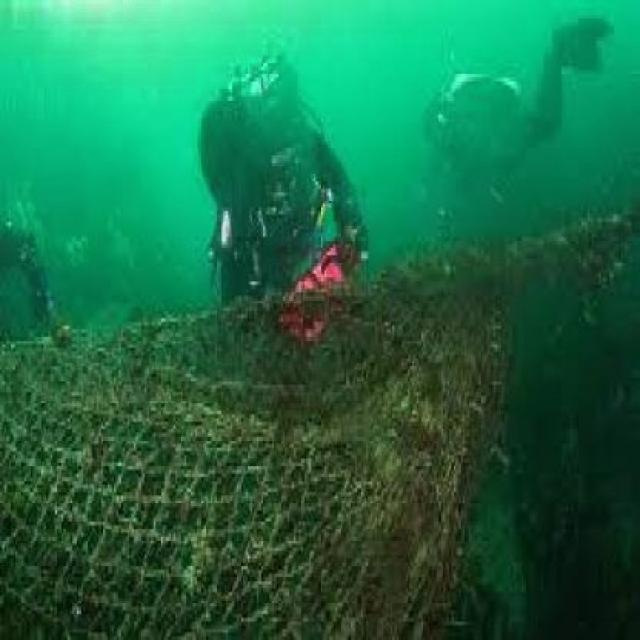net: (2, 274, 507, 629)
